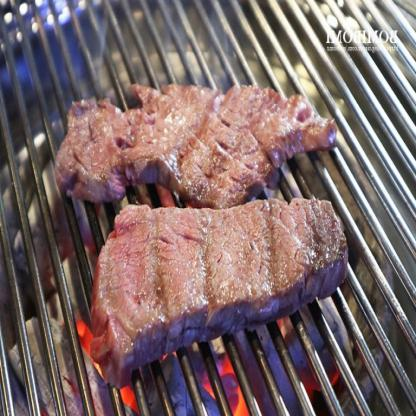Carne: (91, 193, 355, 385), (55, 77, 344, 201)
